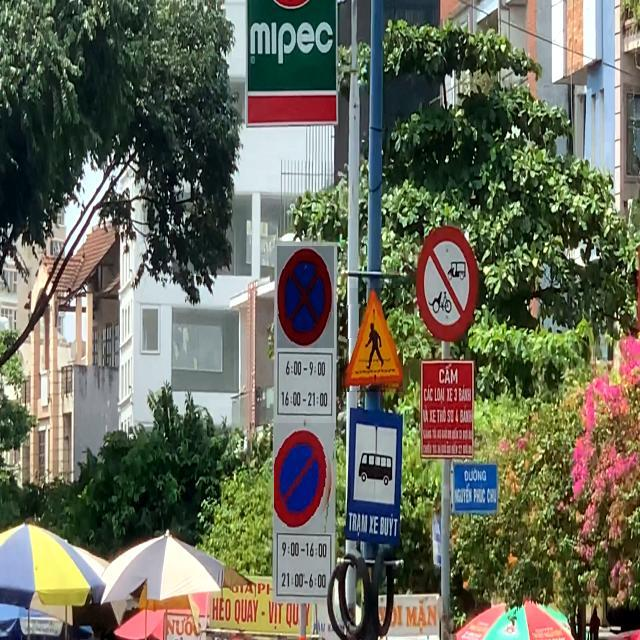P-130: (277, 246, 334, 348)
P-131a: (274, 423, 337, 533)
W-224: (340, 288, 403, 392)
